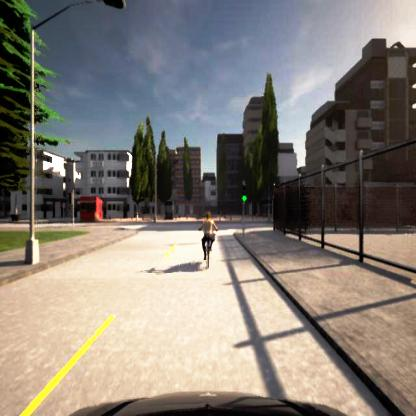bike: (197, 211, 218, 265)
